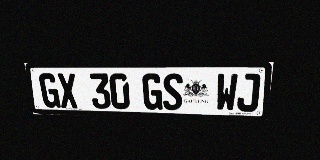0: (109, 73, 130, 109)
3: (89, 73, 111, 109)
G: (38, 73, 61, 108), (142, 73, 162, 110)
J: (236, 74, 261, 112)
S: (163, 73, 183, 110)
W: (215, 73, 238, 111)
X: (56, 73, 79, 108)
